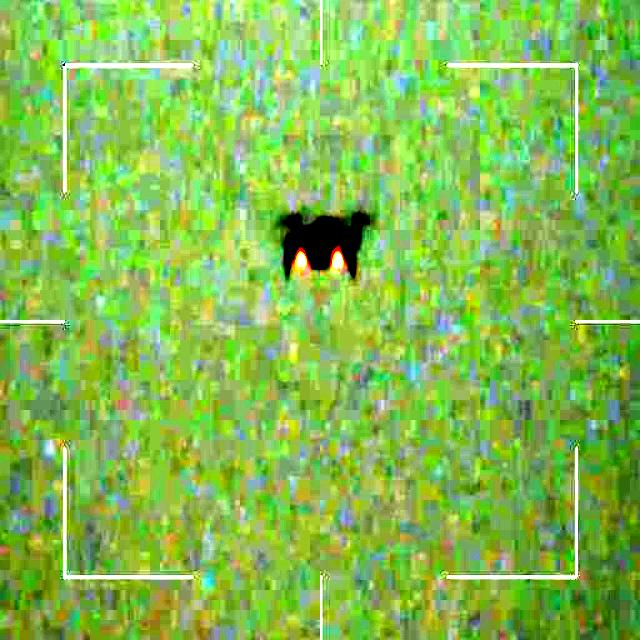bird: (279, 205, 374, 271)
